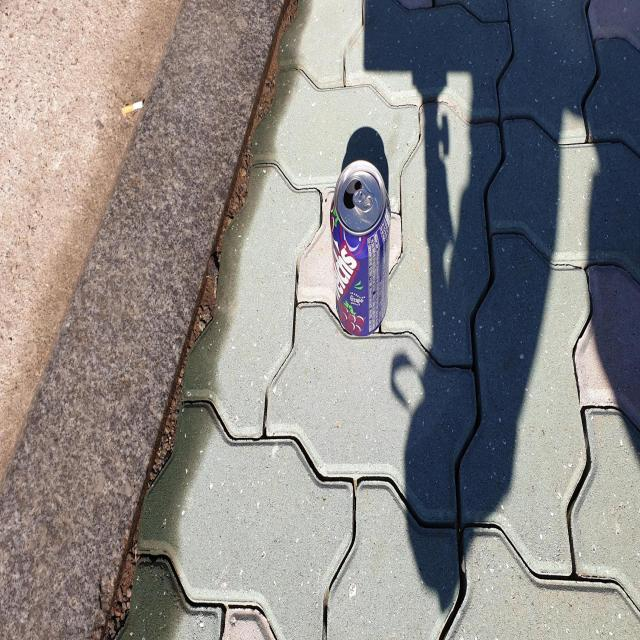can: (330, 159, 392, 336)
